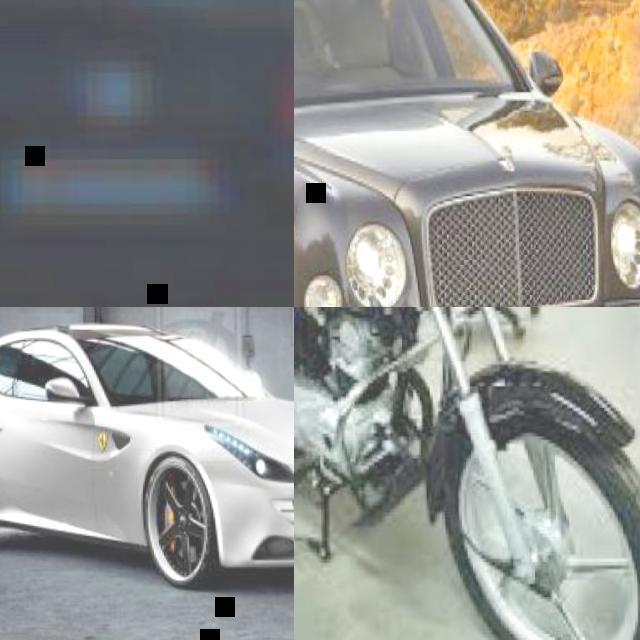car: (293, 2, 640, 301), (2, 319, 293, 591)
